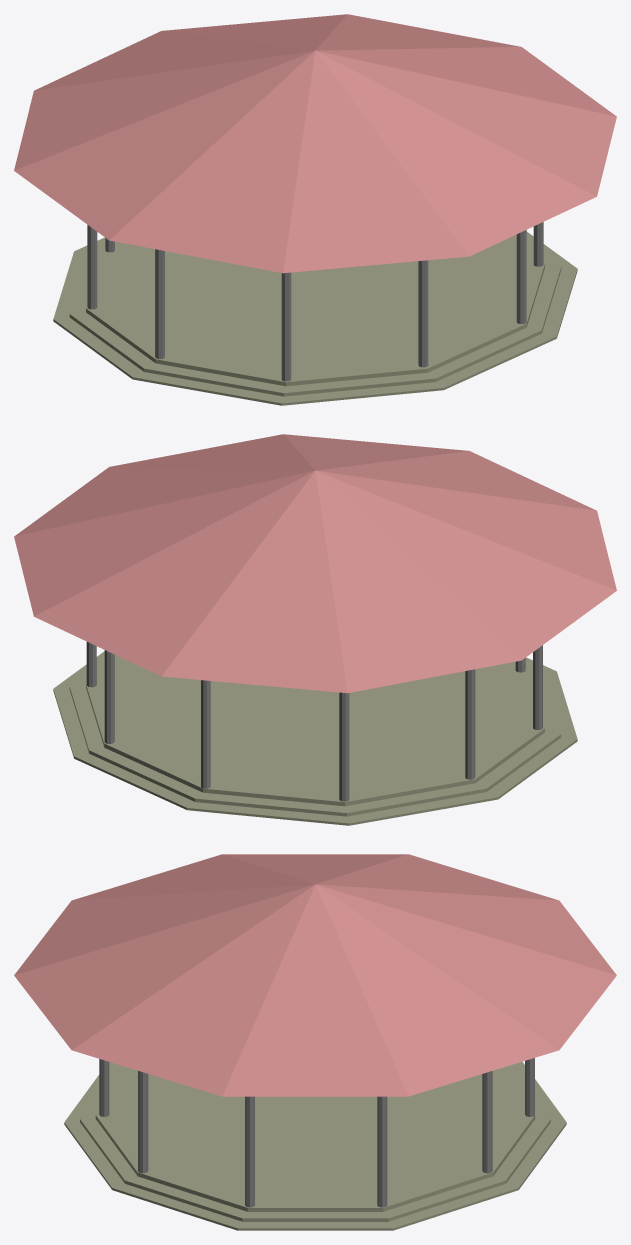
File: BandStand 1.fbx
3 views of the same model, one above another, from view 1: azimuth 30°, elevation 25°; view 2: azimuth 150°, elevation 25°; view 3: azimuth 270°, elevation 25° (orthographic). The views are drawn at different scales.
Visible parts, largest first — view 1: Cone, Cylinder.001, Cylinder, Cylinder.002, Cylinder.009, Cylinder.008, Cylinder.006, Cylinder.010, Cylinder.005; view 2: Cone, Cylinder.001, Cylinder, Cylinder.002, Cylinder.005, Cylinder.012, Cylinder.007, Cylinder.011, Cylinder.006; view 3: Cone, Cylinder.001, Cylinder, Cylinder.002, Cylinder.004, Cylinder.003, Cylinder.011, Cylinder.010, Cylinder.008, Cylinder.007.
Boxes of the visible parts, x1,y1,x2,y2 form: Cone: [14, 14, 616, 273]; Cylinder.001: [86, 238, 544, 386]; Cylinder: [53, 231, 577, 405]; Cylinder.002: [69, 234, 561, 396]; Cylinder.009: [281, 272, 291, 381]; Cylinder.008: [418, 260, 428, 367]; Cylinder.006: [155, 249, 164, 358]; Cylinder.010: [516, 230, 526, 323]; Cylinder.005: [87, 225, 97, 309]; Cone: [14, 434, 616, 693]; Cylinder.001: [86, 658, 544, 806]; Cylinder: [53, 651, 577, 825]; Cylinder.002: [69, 655, 561, 816]; Cylinder.005: [465, 669, 475, 779]; Cylinder.012: [339, 692, 349, 801]; Cylinder.007: [201, 680, 210, 788]; Cylinder.011: [104, 650, 114, 743]; Cylinder.006: [533, 645, 542, 729]; Cone: [14, 854, 616, 1096]; Cylinder.001: [95, 1068, 535, 1211]; Cylinder: [64, 1061, 566, 1230]; Cylinder.002: [80, 1065, 550, 1221]; Cylinder.004: [377, 1096, 387, 1207]; Cylinder.003: [245, 1096, 254, 1207]; Cylinder.011: [482, 1071, 492, 1173]; Cylinder.010: [138, 1071, 148, 1173]; Cylinder.008: [99, 1059, 109, 1116]; Cylinder.007: [525, 1058, 534, 1116].
Bounding box in the file's own units: 2283 × 1055 × 2400.
